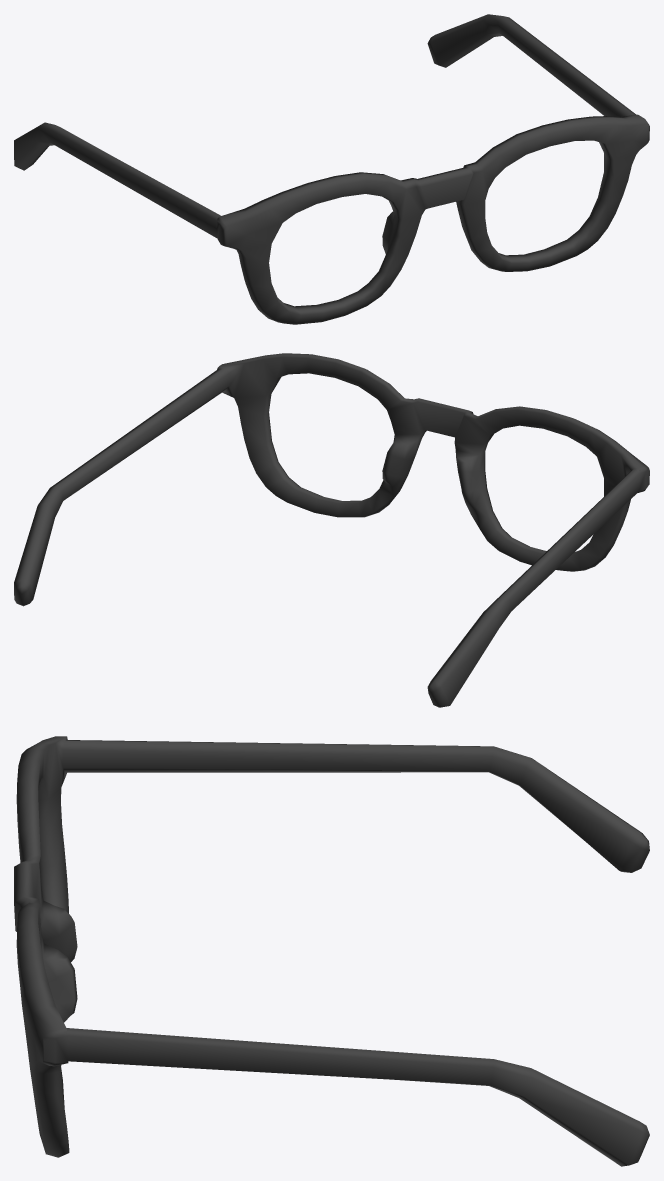
The model's file is SM_glass1.fbx.
3 views of the same model, one above another, from view 1: azimuth 30°, elevation 25°; view 2: azimuth 150°, elevation 25°; view 3: azimuth 270°, elevation 25° (orthographic). The views are drawn at different scales.
Visible parts, largest first — view 1: glass; view 2: glass; view 3: glass.
Boxes of the visible parts, box(x1,y1,x2,y2) form: glass: box(14, 14, 649, 324); glass: box(14, 353, 649, 707); glass: box(14, 736, 649, 1166).
Size of the model in its own units: 35.43 by 10.89 by 29.5.
